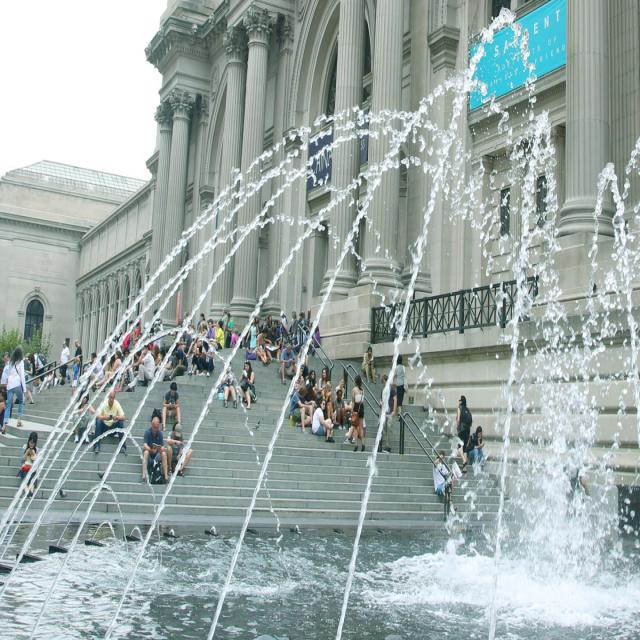body: (549, 432, 591, 562), (93, 386, 129, 456), (1, 344, 27, 435), (106, 308, 153, 358), (140, 416, 170, 486), (432, 449, 458, 515), (165, 419, 193, 478), (378, 372, 398, 453), (126, 343, 156, 390), (20, 430, 40, 500), (72, 387, 96, 445), (456, 392, 473, 473), (349, 373, 366, 453), (310, 397, 335, 444), (288, 384, 311, 435), (296, 308, 321, 354), (91, 351, 117, 394), (392, 354, 409, 418), (112, 346, 134, 393), (161, 381, 181, 432), (239, 358, 258, 411), (298, 382, 318, 429), (0, 350, 13, 419), (279, 342, 299, 386), (220, 359, 237, 408), (167, 344, 188, 382), (466, 426, 485, 468), (342, 415, 367, 446), (82, 351, 105, 384), (197, 338, 215, 378), (151, 308, 164, 362), (55, 340, 70, 386), (188, 336, 205, 376), (24, 354, 37, 406), (254, 326, 270, 368), (264, 323, 280, 364), (331, 388, 346, 431), (321, 380, 336, 422), (36, 362, 54, 396), (361, 346, 376, 384), (208, 319, 225, 351), (245, 316, 260, 350), (33, 352, 46, 389), (188, 312, 206, 336), (177, 328, 193, 354), (288, 310, 298, 351), (292, 366, 306, 394), (304, 369, 319, 394), (318, 366, 332, 392), (71, 356, 80, 396), (73, 338, 83, 372), (221, 306, 229, 348), (258, 314, 280, 329), (0, 391, 8, 432), (333, 376, 346, 401), (296, 345, 309, 370), (163, 346, 175, 370), (225, 312, 233, 347), (181, 310, 192, 334), (152, 344, 164, 366), (242, 326, 252, 351), (23, 356, 31, 382), (230, 328, 239, 350), (280, 322, 289, 344), (206, 318, 214, 340), (279, 310, 287, 330), (173, 329, 183, 345), (65, 369, 72, 385), (238, 332, 244, 350), (53, 373, 60, 387), (185, 344, 192, 358), (32, 378, 38, 394), (105, 358, 112, 371), (12, 392, 18, 406), (82, 364, 89, 374), (134, 358, 139, 371), (0, 382, 6, 392), (192, 336, 197, 347), (194, 346, 197, 356), (256, 317, 259, 325), (190, 342, 192, 346)
